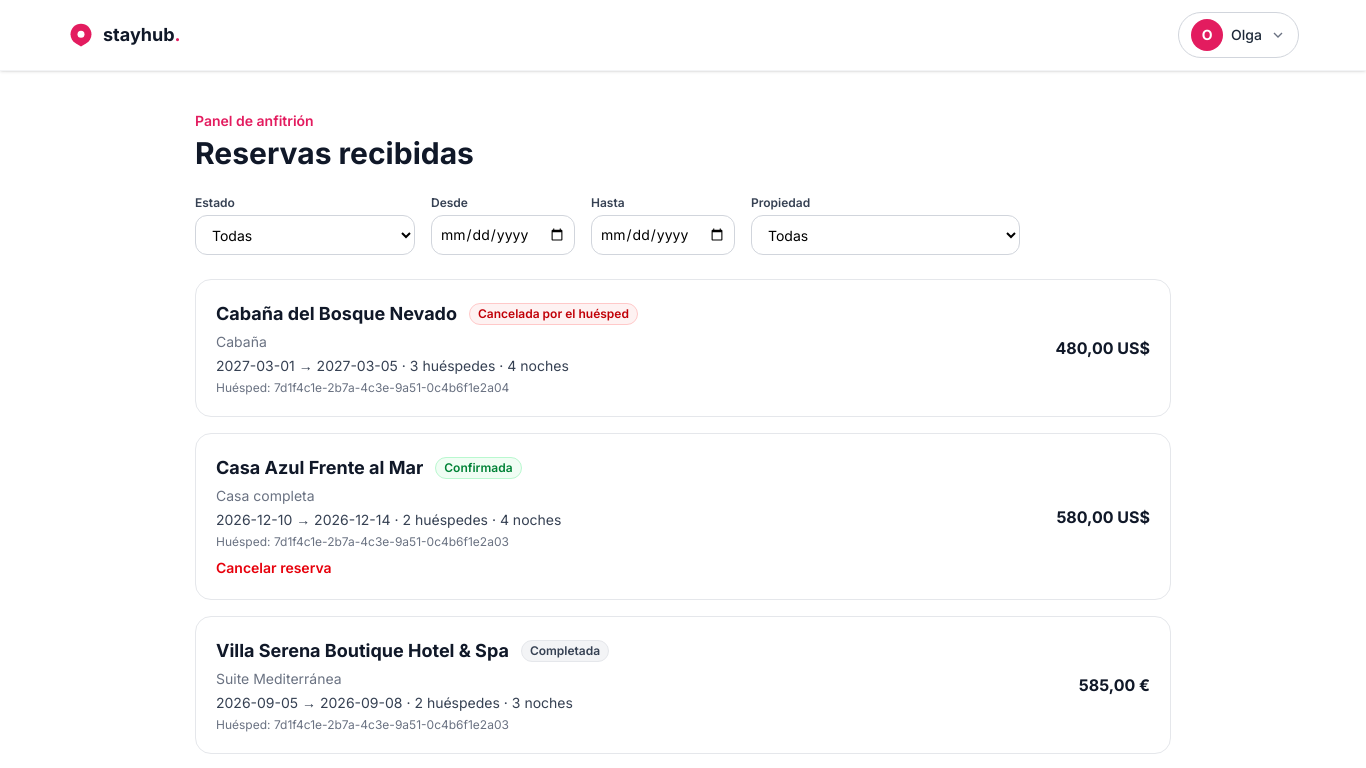
Test: BookingsReceived — owner history › filters by property (client side)
expect the heading "Villa Serena Boutique Hotel & Spa" is shown: met, box [216, 637, 509, 665]
Select "Casa Azul Frente al Mar" in the dropdown labelled "Propiedad" at point(886, 235), box [751, 215, 1020, 255]
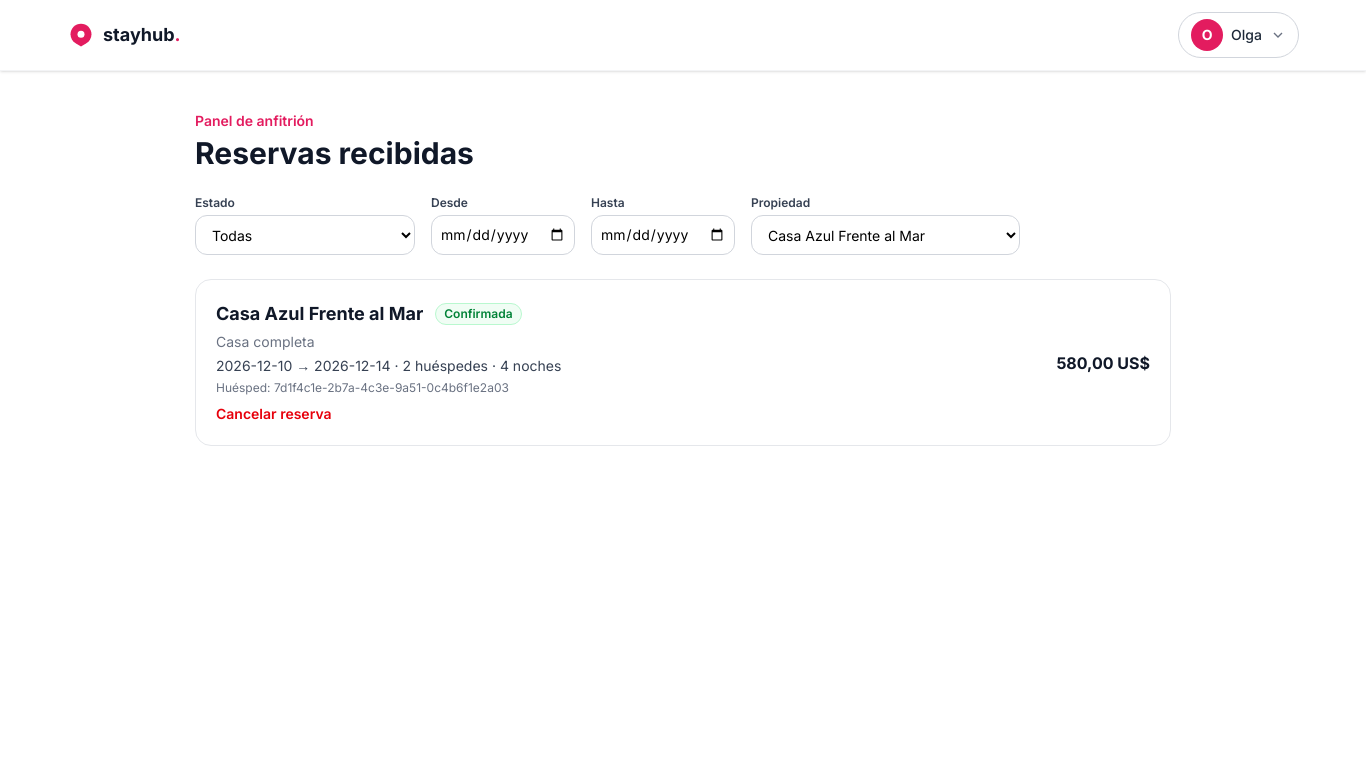
expect the heading "Casa Azul Frente al Mar" is shown: met, box [216, 300, 423, 328]
expect the heading "Villa Serena Boutique Hotel & Spa" is gone: met
